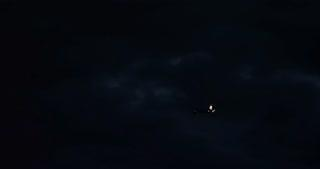Plane: (195, 100, 227, 115)
